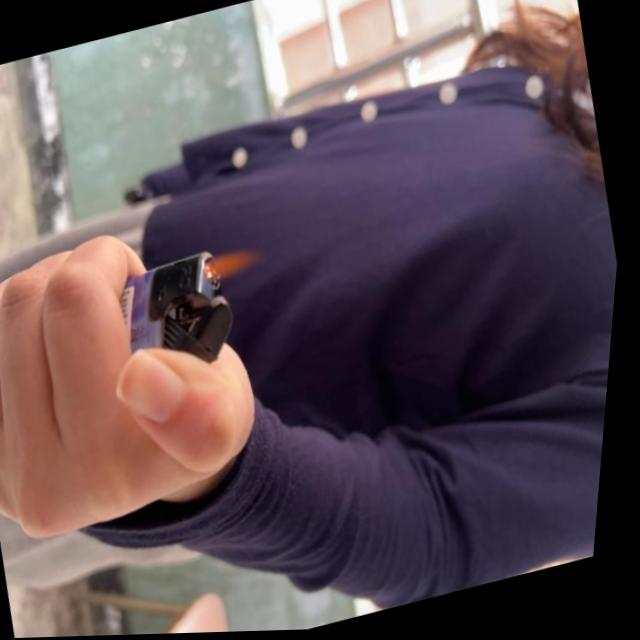Fire: (204, 244, 269, 286)
